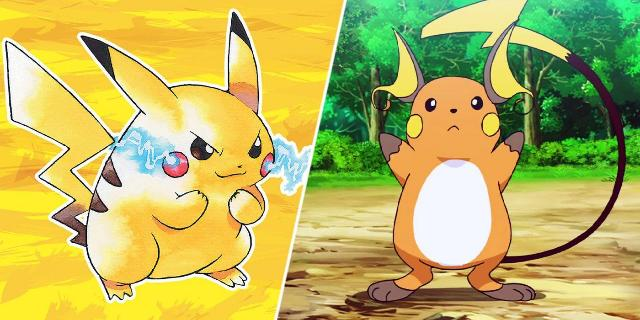pickachu: (4, 12, 276, 300)
